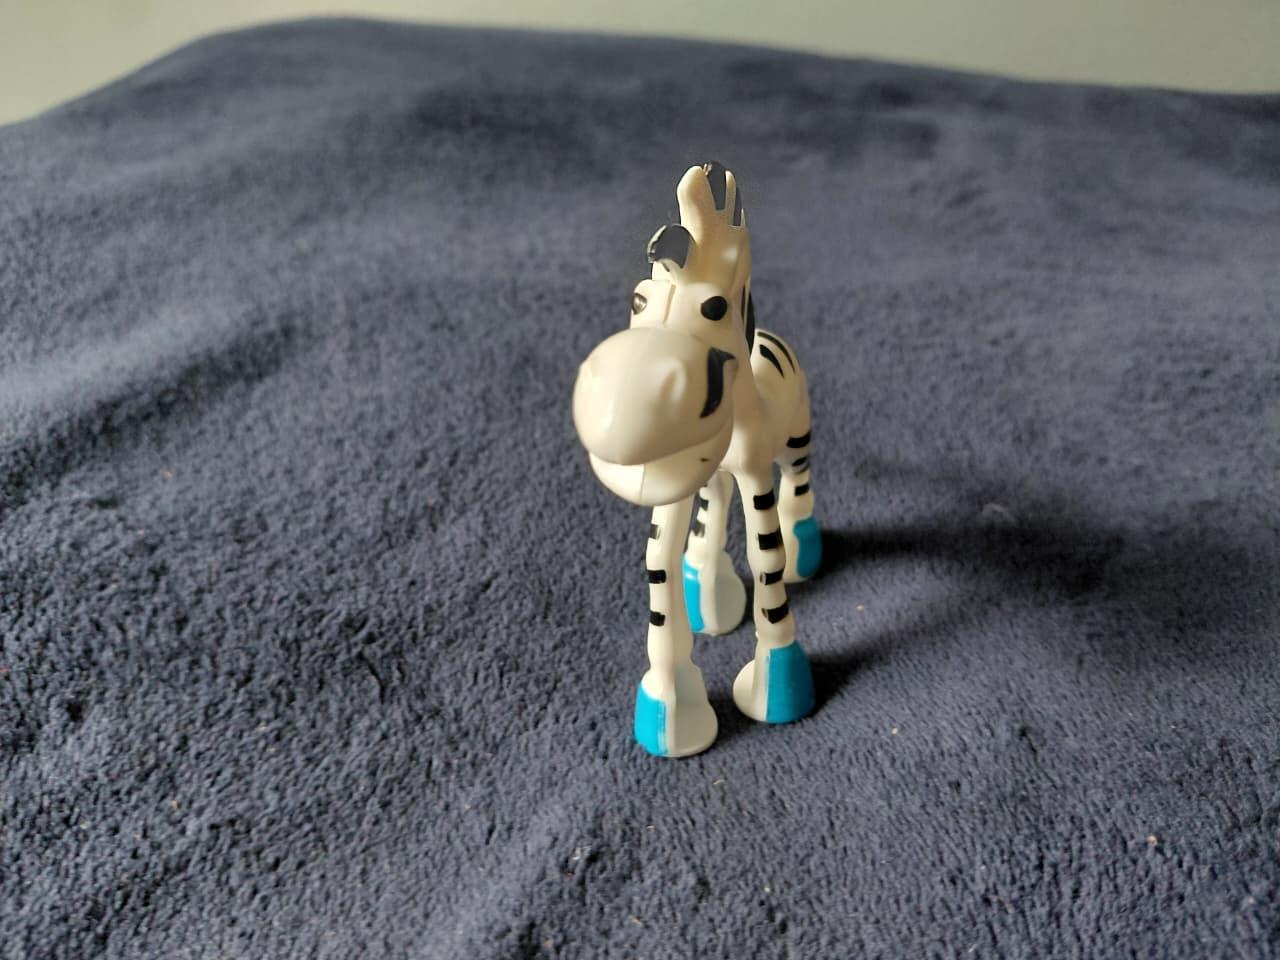zebra: (556, 148, 855, 759)
